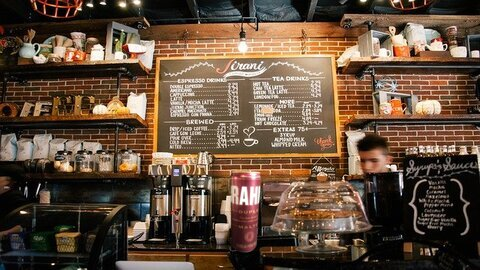duplo_malte: (227, 166, 262, 258)
